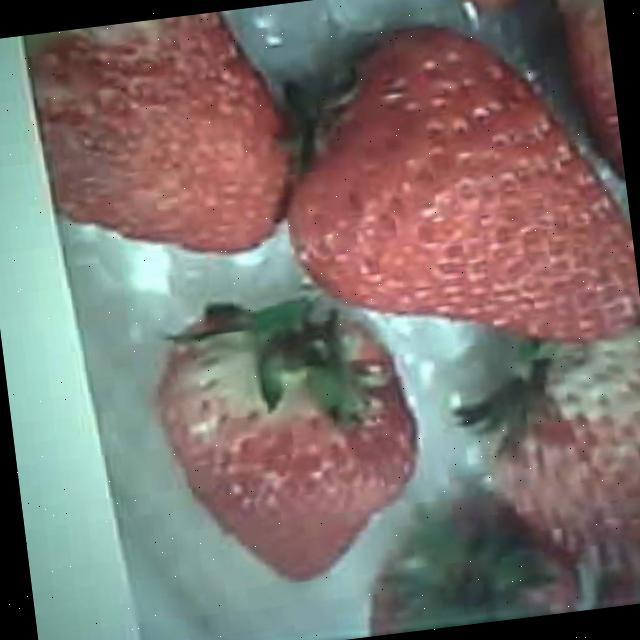strawberry: (271, 11, 640, 379), (146, 307, 434, 598)
